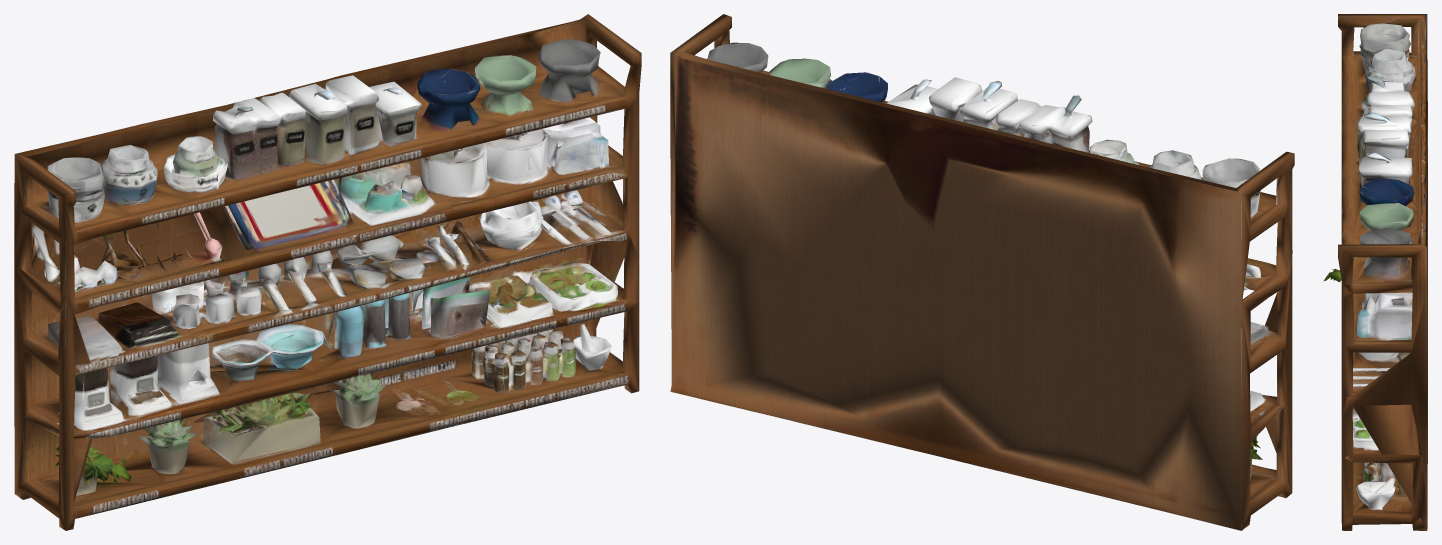
File: Meshy_AI_Organized_Kitchen_Ute_0610185628_texture.fbx
3 renders of one model, left to right at view 1: azimuth 30°, elevation 25°; view 2: azimuth 150°, elevation 25°; view 3: azimuth 270°, elevation 25°, orthographic. The views are drawn at different scales.
Parts seen in each view (by area): view 1: Mesh_0; view 2: Mesh_0; view 3: Mesh_0.
Part boxes in pixels (x1=…): Mesh_0: x1=14, y1=14, x2=641, y2=530; Mesh_0: x1=670, y1=14, x2=1294, y2=530; Mesh_0: x1=1323, y1=14, x2=1427, y2=530.
Size of the model in its own units: 191 by 115 by 36.31.
Materials: 1 (1 with a texture image).
